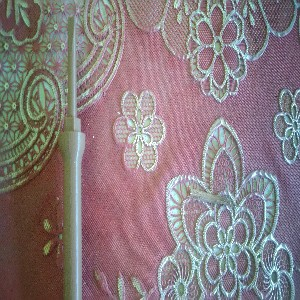obeng: (60, 14, 85, 300)
